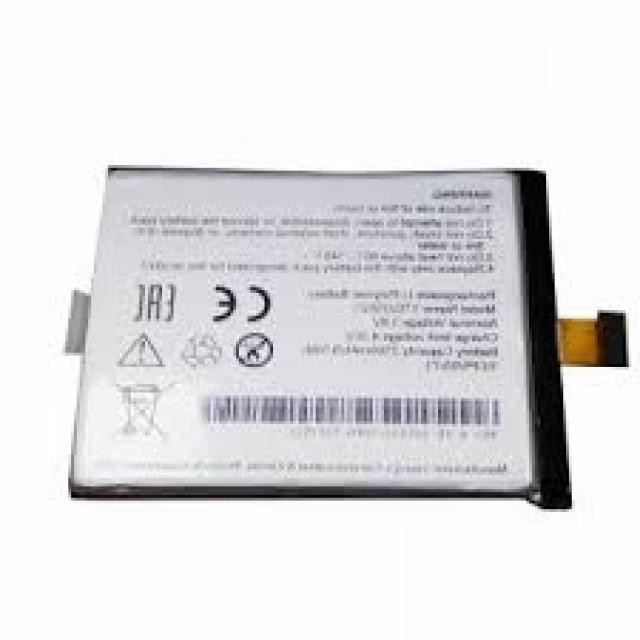battery: (68, 163, 630, 508)
